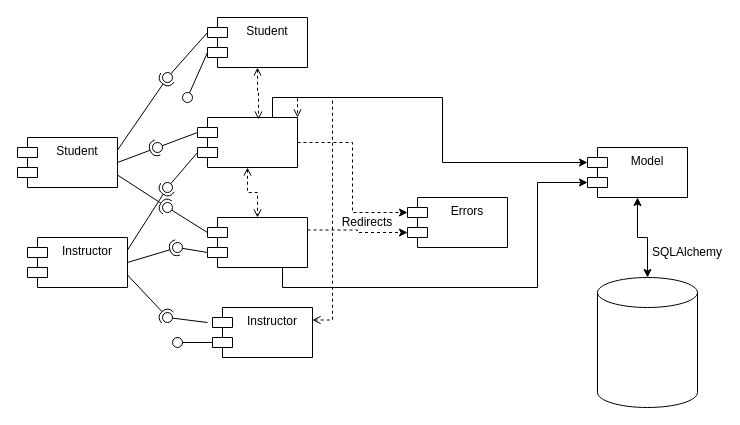
Image size: 740x425. Some labels were removed from this diagram. The shapes that lost their labels are listed below. From the top down, each one's centre as x and y in pixels, then its label:
At pixel 247 142: "Main".
At pixel 257 242: "Auth".
At pixel 647 342: "PostgresSQL DB".
